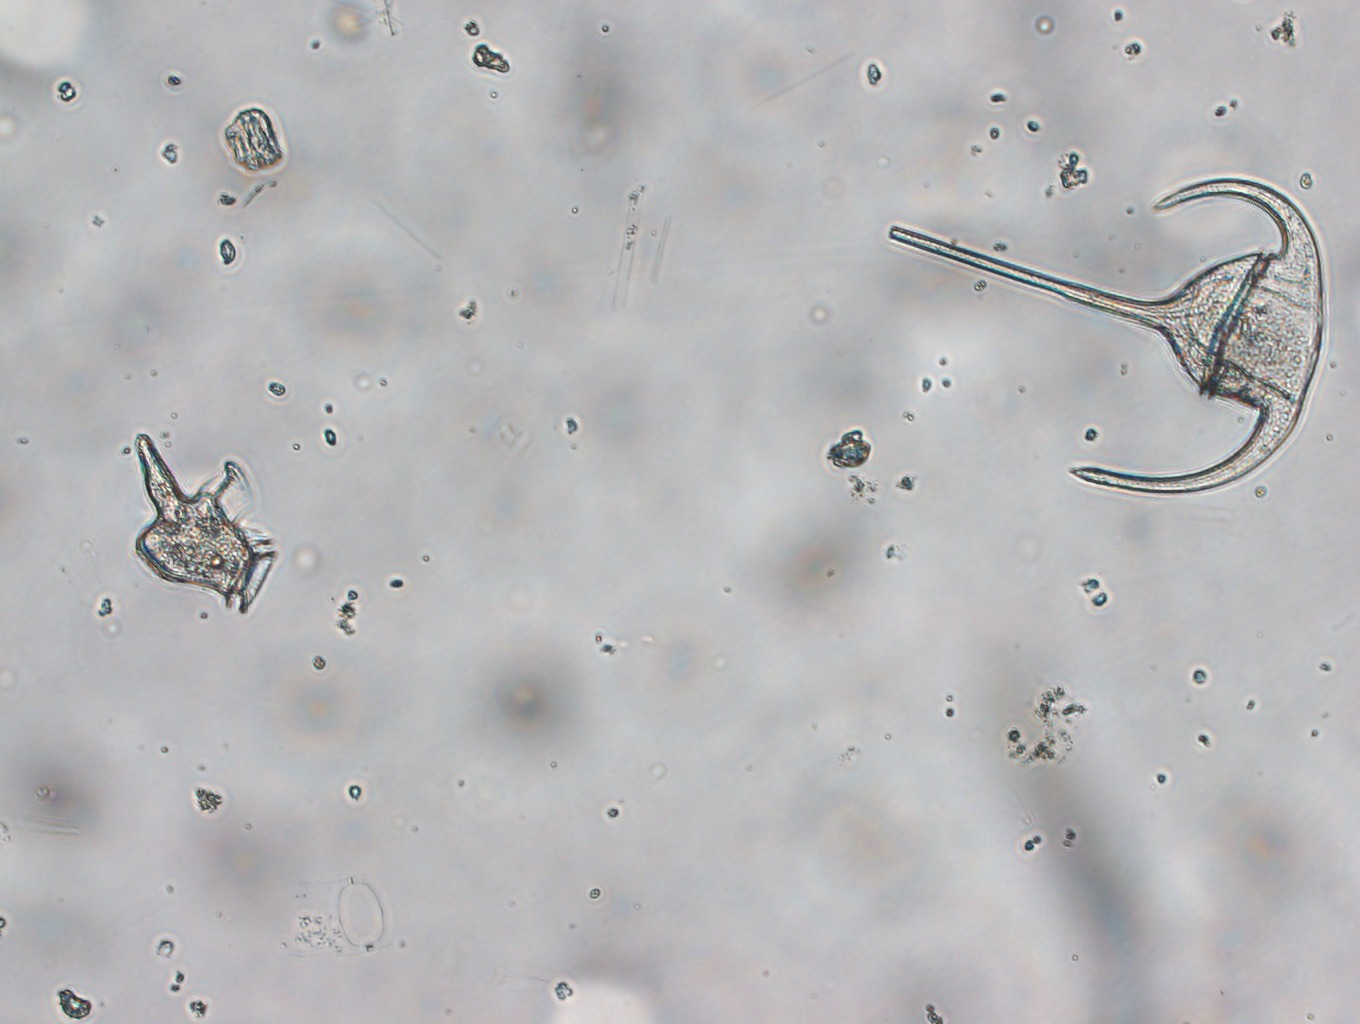ceratium trichoceros: (872, 173, 1343, 506)
dinophysis caudata: (124, 423, 287, 624)
